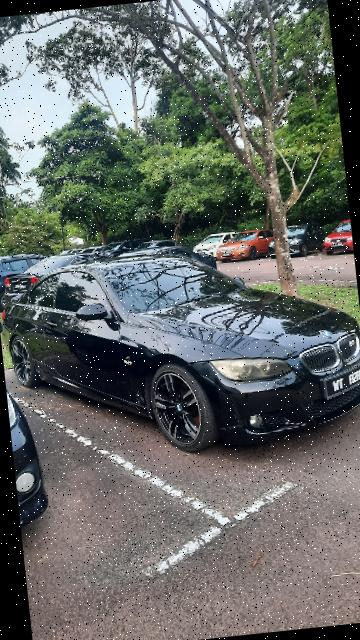License_Plate: (322, 361, 360, 401)
car: (1, 230, 360, 474)
